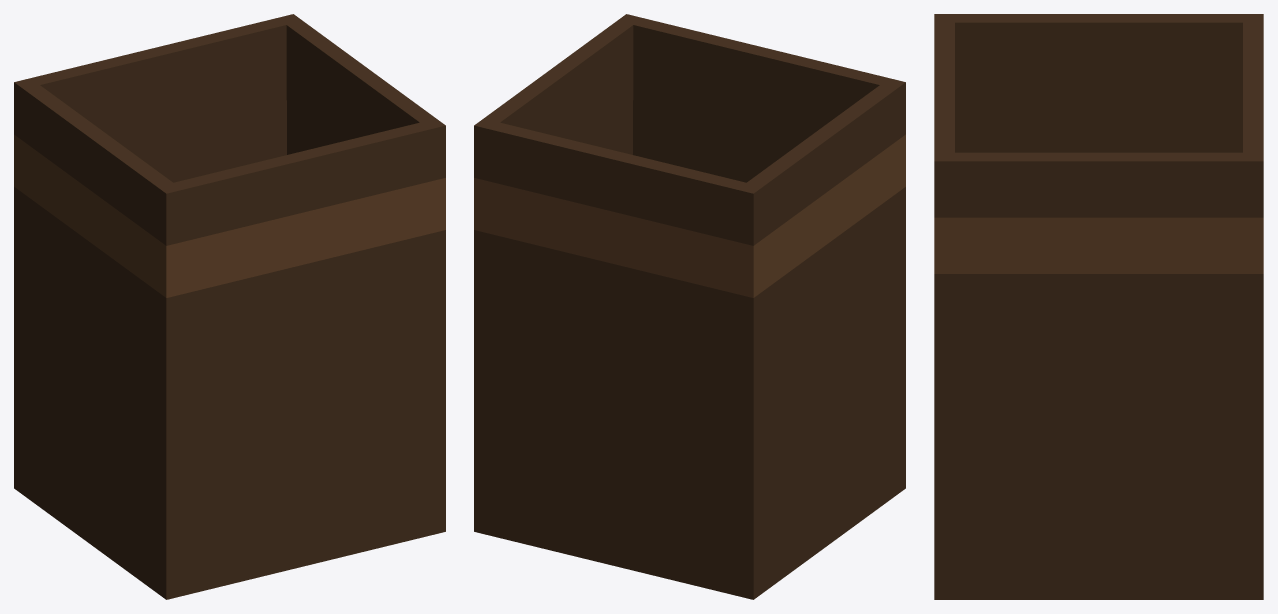
File: Bucket_2_Dark_Brown.fbx
3 renders of one model, left to right at view 1: azimuth 30°, elevation 25°; view 2: azimuth 150°, elevation 25°; view 3: azimuth 270°, elevation 25°, orthographic. The views are drawn at different scales.
Parts seen in each view (by area): view 1: Bucket_2_Dark_Brown; view 2: Bucket_2_Dark_Brown; view 3: Bucket_2_Dark_Brown.
Part boxes in pixels (bbox=[...]): Bucket_2_Dark_Brown: bbox=[14, 14, 445, 599]; Bucket_2_Dark_Brown: bbox=[474, 14, 905, 599]; Bucket_2_Dark_Brown: bbox=[934, 14, 1263, 599].
Size of the model in its own units: 36 by 50 by 34.
